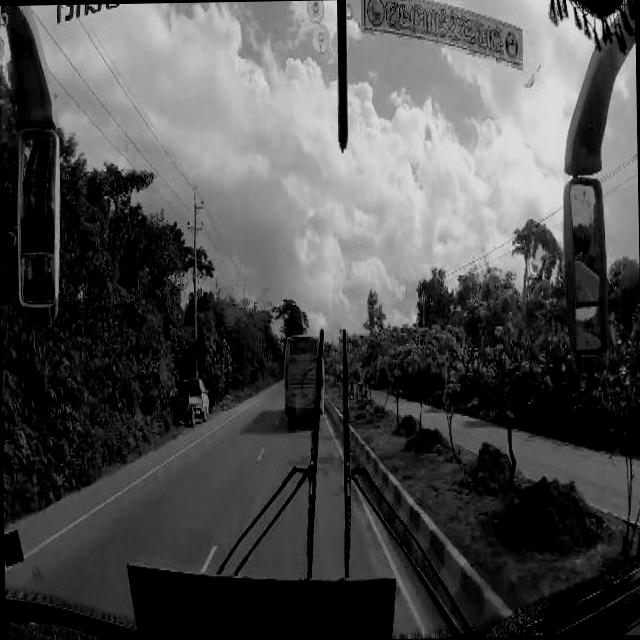bus: (281, 331, 324, 424)
truck: (171, 373, 208, 422)
